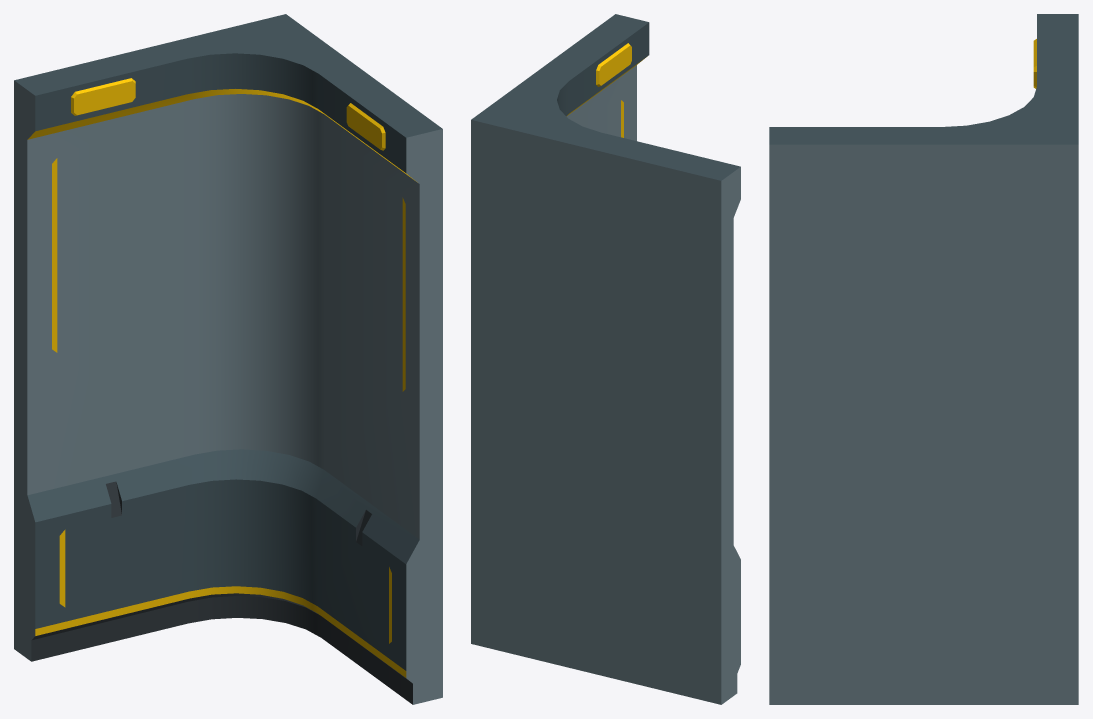
Rendered from Wall_type_C_069.fbx.
3 views of the same model, side by side, from view 1: azimuth 30°, elevation 25°; view 2: azimuth 150°, elevation 25°; view 3: azimuth 270°, elevation 25° (orthographic). The views are drawn at different scales.
Parts seen in each view (by area): view 1: Wall_type_C_069; view 2: Wall_type_C_069; view 3: Wall_type_C_069.
Part boxes in pixels (left/top/right/bottom): Wall_type_C_069: left=14, top=14, right=442, bottom=704; Wall_type_C_069: left=471, top=14, right=740, bottom=704; Wall_type_C_069: left=769, top=14, right=1078, bottom=704.
Bounding box in the file's own units: 200 × 200 × 400.
